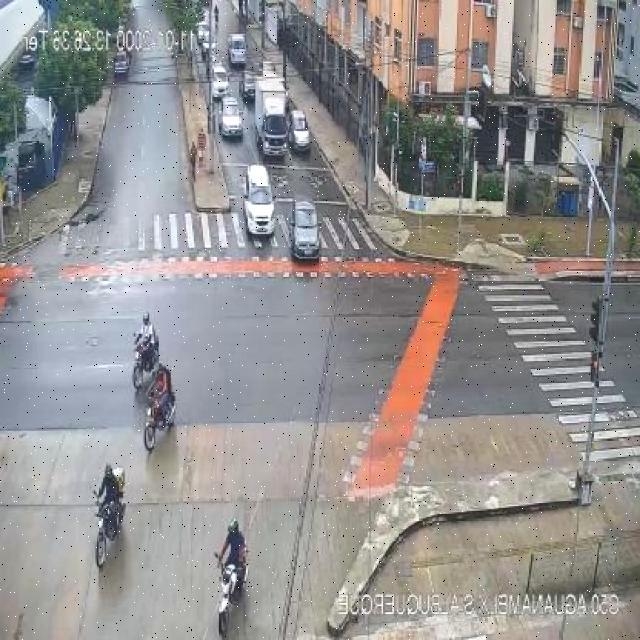Car: (284, 190, 330, 268), (236, 163, 281, 238), (214, 96, 247, 142), (288, 109, 320, 151), (222, 32, 251, 70), (206, 61, 232, 98)
Cycle: (195, 512, 268, 640), (82, 464, 138, 578), (135, 353, 190, 454), (122, 310, 165, 386)
Truck: (246, 81, 293, 162)
